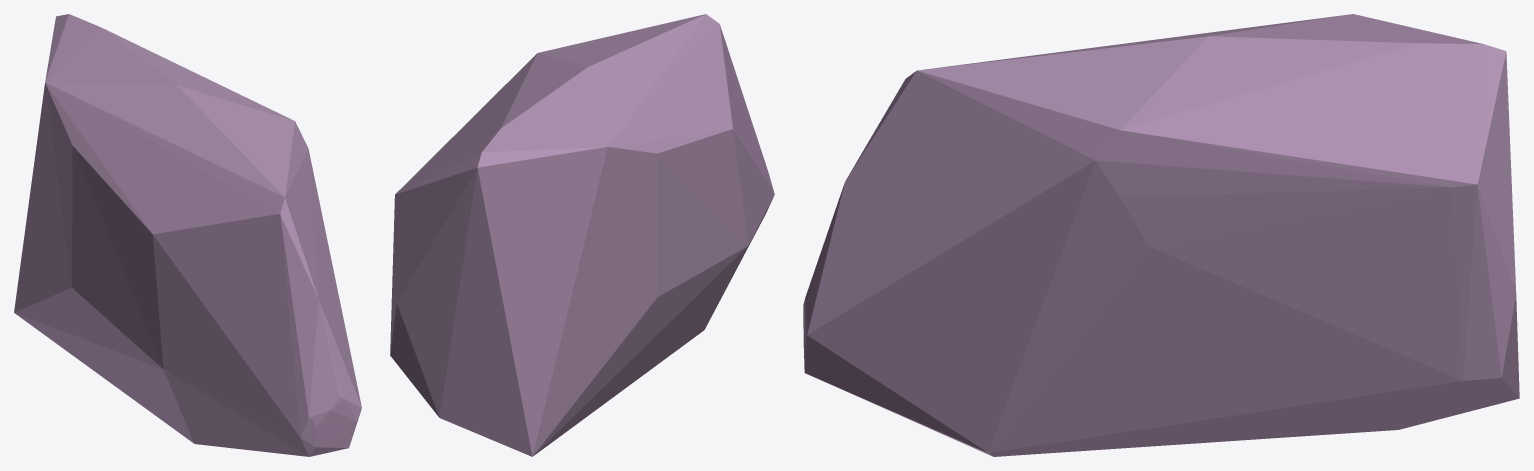
The model's file is consumable_antifreeze_coolant_a01.glb.
3 views of the same model, side by side, from view 1: azimuth 30°, elevation 25°; view 2: azimuth 150°, elevation 25°; view 3: azimuth 270°, elevation 25° (orthographic). The views are drawn at different scales.
Parts seen in each view (by area): view 1: geometry_0; view 2: geometry_0; view 3: geometry_0.
Boxes of the visible parts, x1=… form: geometry_0: x1=14, y1=14, x2=361, y2=456; geometry_0: x1=390, y1=14, x2=774, y2=456; geometry_0: x1=803, y1=14, x2=1519, y2=456.
Size of the model in its own units: 0.1766 by 0.2903 by 0.4799.
